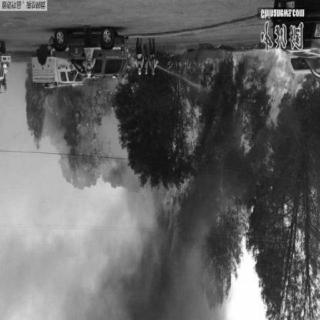Fire: (158, 48, 316, 240), (118, 56, 140, 96)
Smoke: (8, 180, 215, 318)
